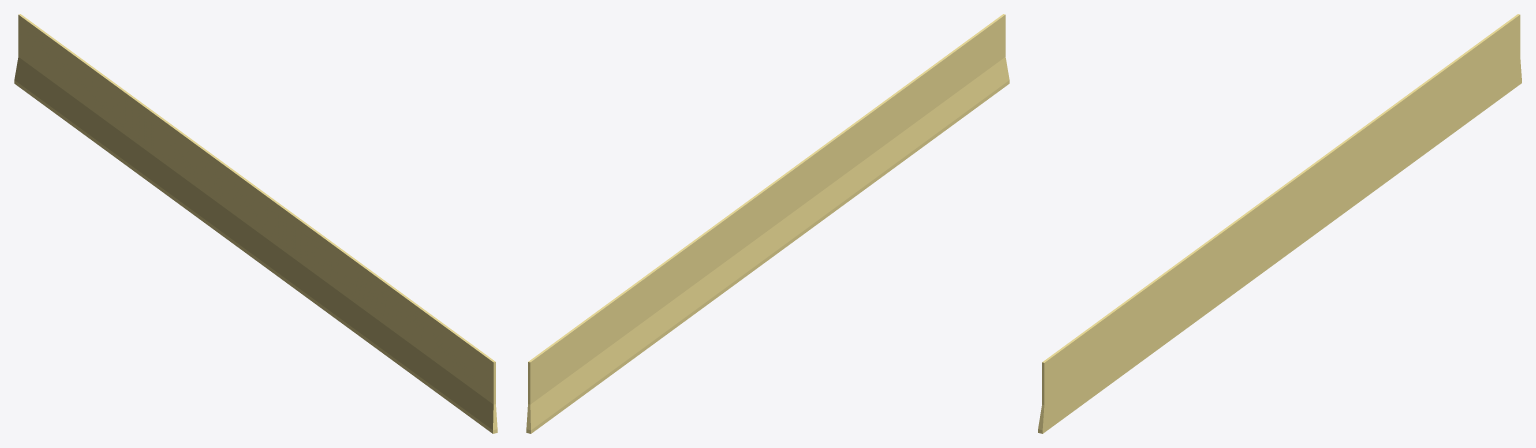
Rendered from interior_school_room_southeast_00_invisible.fbx.
The picture shows the model from 3 angles, left to right: view 1: azimuth 30°, elevation 25°; view 2: azimuth 150°, elevation 25°; view 3: azimuth 330°, elevation 25°; orthographic projection.
Visible parts, largest first — view 1: Invisible Mesh; view 2: Invisible Mesh; view 3: Invisible Mesh.
Part boxes in pixels (left/top/right/bottom): Invisible Mesh: left=14, top=14, right=497, bottom=433; Invisible Mesh: left=526, top=14, right=1009, bottom=433; Invisible Mesh: left=1038, top=14, right=1521, bottom=433.
Bounding box in the file's own units: 26.47 × 380 × 4726.
